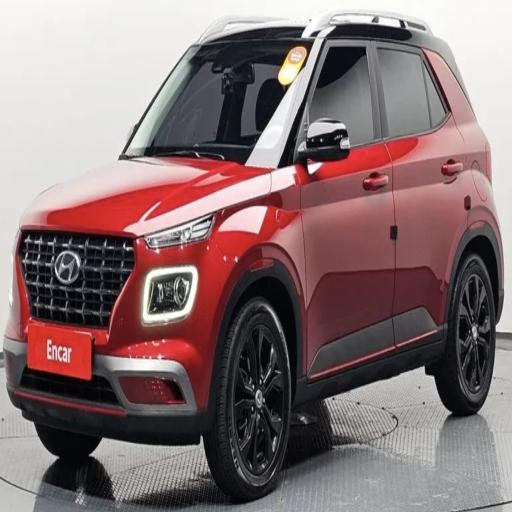normal: (16, 0, 511, 484)
